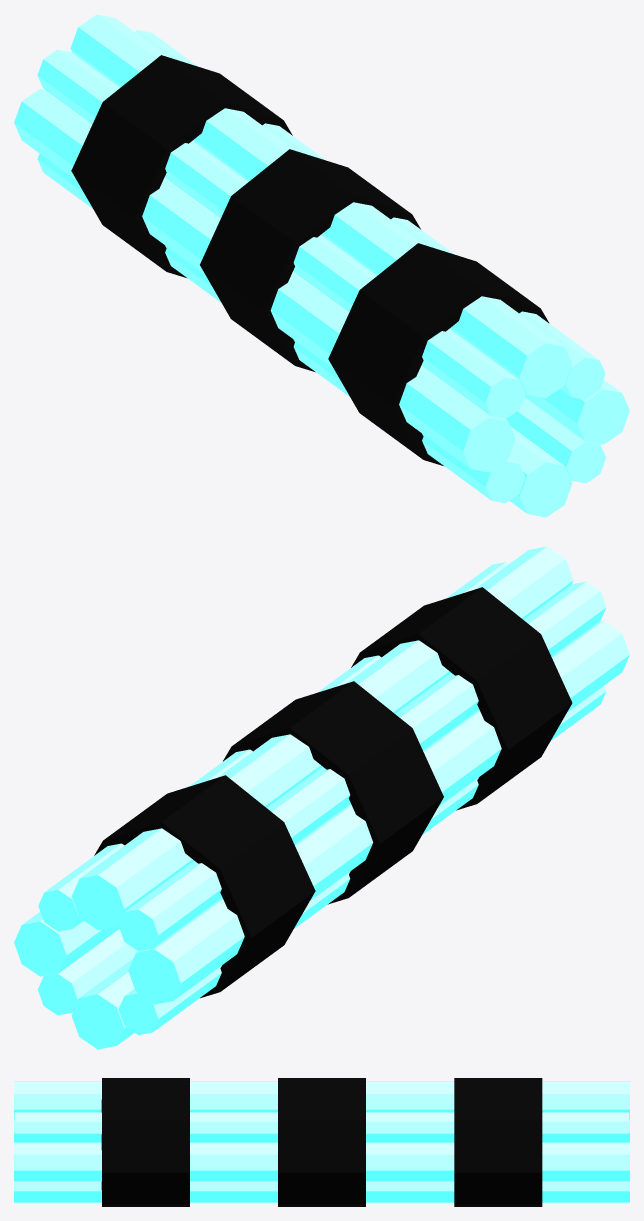
File: straight_cable.fbx
3 renders of one model, top to bottom at view 1: azimuth 30°, elevation 25°; view 2: azimuth 150°, elevation 25°; view 3: azimuth 270°, elevation 25°, orthographic. The views are drawn at different scales.
Parts seen in each view (by area): view 1: cable, calbe_case; view 2: cable, calbe_case; view 3: cable, calbe_case.
Boxes of the visible parts, x1=… form: cable: x1=14, y1=14, x2=629, y2=517; calbe_case: x1=71, y1=55, x2=549, y2=465; cable: x1=14, y1=546, x2=629, y2=1049; calbe_case: x1=94, y1=587, x2=572, y2=998; cable: x1=14, y1=1081, x2=629, y2=1202; calbe_case: x1=101, y1=1078, x2=542, y2=1206.
Bounding box in the file's own units: 46.04 × 45.97 × 199.
